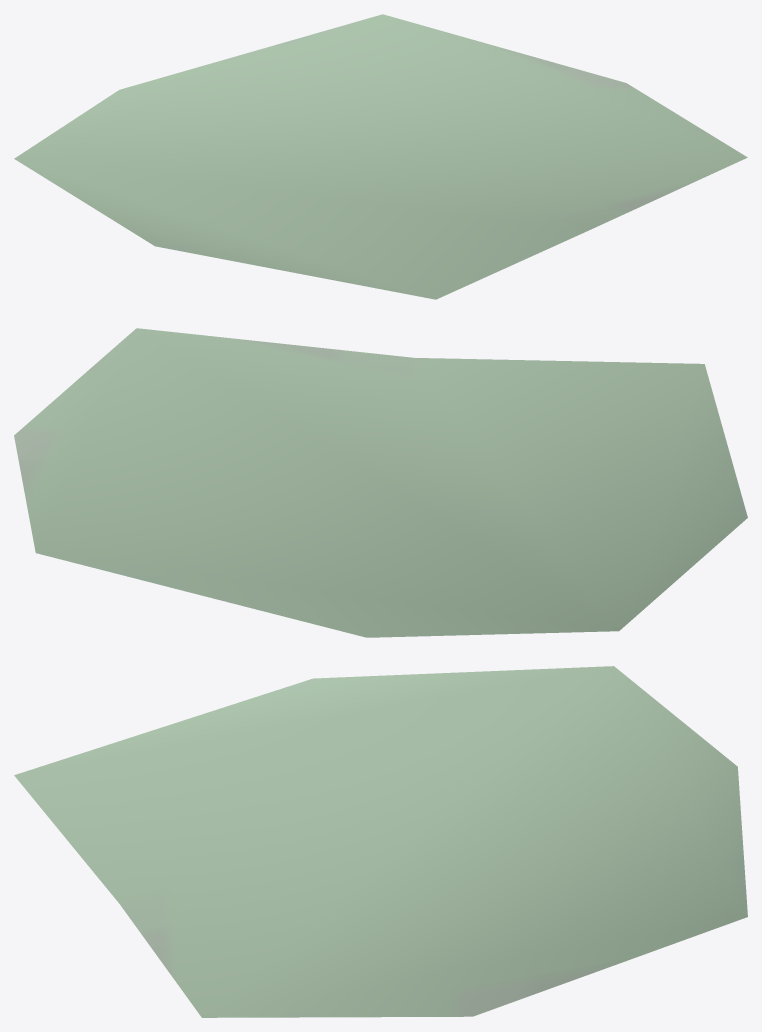
File: TROLLHOLE02_HOLECAP68.fbx
3 views of the same model, one above another, from view 1: azimuth 30°, elevation 25°; view 2: azimuth 150°, elevation 25°; view 3: azimuth 270°, elevation 25° (orthographic). The views are drawn at different scales.
Visible parts, largest first — view 1: TROLLHOLE02_HOLECAP68; view 2: TROLLHOLE02_HOLECAP68; view 3: TROLLHOLE02_HOLECAP68.
Part boxes in pixels (x1,y1,x2,y2): TROLLHOLE02_HOLECAP68: (14,14,747,299); TROLLHOLE02_HOLECAP68: (14,328,747,637); TROLLHOLE02_HOLECAP68: (14,666,747,1017).
Size of the model in its own units: 20685 by 632 by 19092.
1 material, 1 textured.
